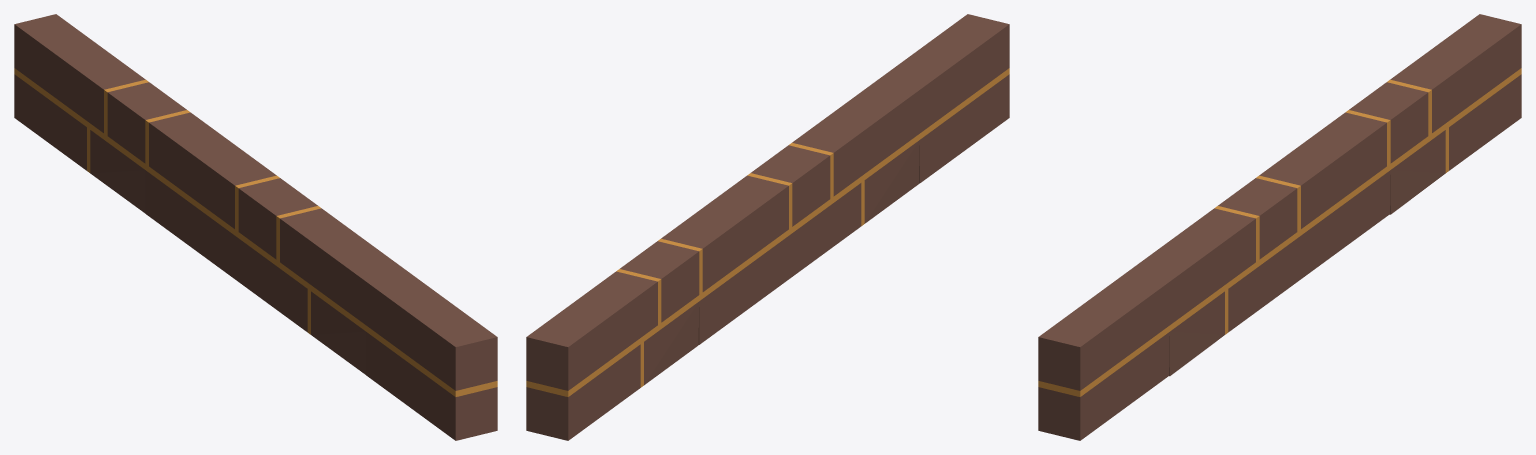
The picture shows the model from 3 angles, left to right: view 1: azimuth 30°, elevation 25°; view 2: azimuth 150°, elevation 25°; view 3: azimuth 330°, elevation 25°; orthographic projection.
Parts seen in each view (by area): view 1: mesh_1148108872, mesh_997312135, mesh_534291549, mesh_805823538, mesh_1448565537, mesh_505231499, mesh_1547201179, mesh_830981041, mesh_2124062672, mesh_1744008141, mesh_1699511663, mesh_1138848981 (+5 smaller); view 2: mesh_1148108872, mesh_997312135, mesh_534291549, mesh_1744008141, mesh_805823538, mesh_1448565537, mesh_505231499, mesh_1547201179, mesh_830981041, mesh_2124062672, mesh_1699511663, mesh_846605629 (+5 smaller); view 3: mesh_1148108872, mesh_997312135, mesh_534291549, mesh_805823538, mesh_1448565537, mesh_505231499, mesh_1547201179, mesh_830981041, mesh_2124062672, mesh_1744008141, mesh_1699511663, mesh_846605629 (+5 smaller).
Boxes of the visible parts, x1,y1,x2,y2 form: mesh_1148108872: (14, 14, 145, 132); mesh_997312135: (280, 208, 407, 324); mesh_534291549: (149, 112, 276, 228); mesh_805823538: (404, 299, 497, 390); mesh_1448565537: (366, 332, 497, 440); mesh_505231499: (145, 170, 234, 278); mesh_1547201179: (107, 82, 186, 163); mesh_830981041: (238, 178, 317, 259); mesh_2124062672: (366, 271, 445, 352); mesh_1744008141: (14, 74, 86, 170); mesh_1699511663: (235, 236, 307, 332); mesh_1138848981: (90, 130, 145, 212); mesh_1148108872: (526, 271, 657, 390); mesh_997312135: (792, 79, 919, 196); mesh_534291549: (661, 175, 788, 291); mesh_1744008141: (526, 344, 640, 440); mesh_805823538: (916, 14, 1009, 105); mesh_1448565537: (919, 74, 1009, 183); mesh_505231499: (698, 236, 788, 344); mesh_1547201179: (620, 241, 699, 322); mesh_830981041: (751, 145, 830, 226); mesh_2124062672: (878, 52, 957, 132); mesh_1699511663: (789, 183, 861, 278); mesh_846605629: (864, 140, 919, 223); mesh_1148108872: (1390, 14, 1521, 132); mesh_997312135: (1128, 208, 1255, 324); mesh_534291549: (1259, 112, 1386, 228); mesh_805823538: (1038, 299, 1131, 390); mesh_1448565537: (1038, 332, 1169, 440); mesh_505231499: (1301, 170, 1390, 278); mesh_1547201179: (1349, 82, 1428, 163); mesh_830981041: (1218, 178, 1297, 259); mesh_2124062672: (1090, 271, 1169, 352); mesh_1744008141: (1449, 74, 1521, 170); mesh_1699511663: (1228, 236, 1300, 332); mesh_846605629: (1169, 291, 1224, 376).
Bounding box in the file's own units: 7.1 × 15.09 × 128.
